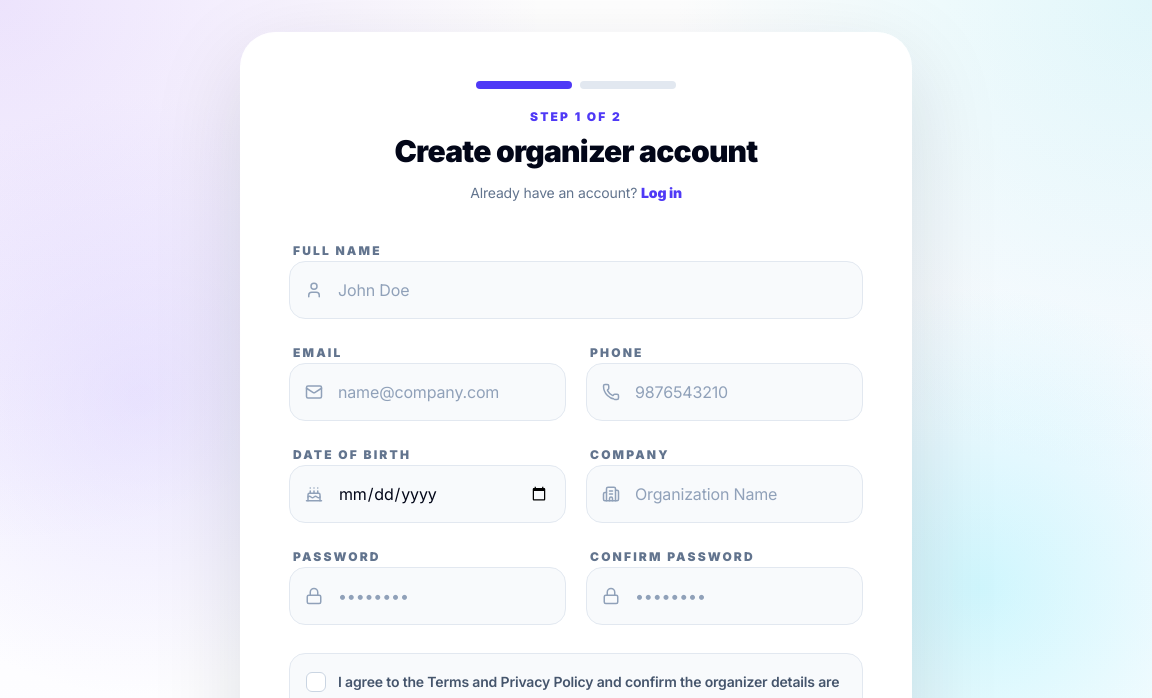
Test case: OrganizerRegistration › validates matching passwords
The image size is (1152, 698).
Type "Password1!" into the password field labelled "Password" at (428, 596), box x1=289 y1=567 x2=566 y2=625
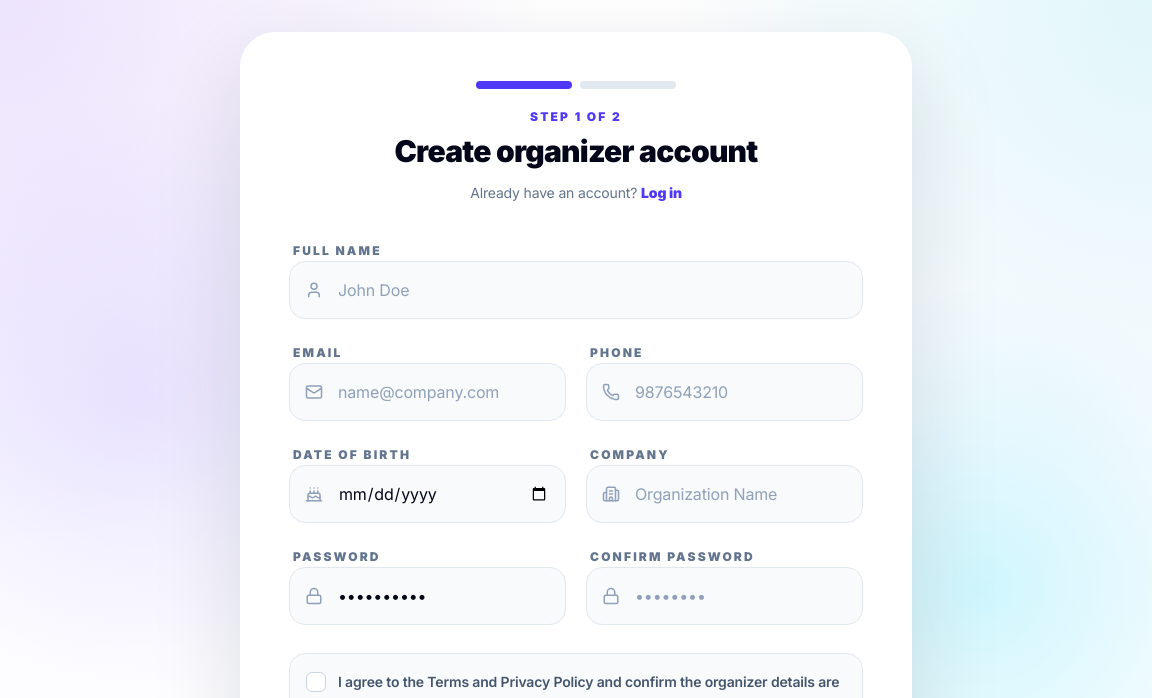
Type "Password2!" into the password field labelled "Confirm Password" at (724, 596), box x1=586 y1=567 x2=863 y2=625
(page scrolled)
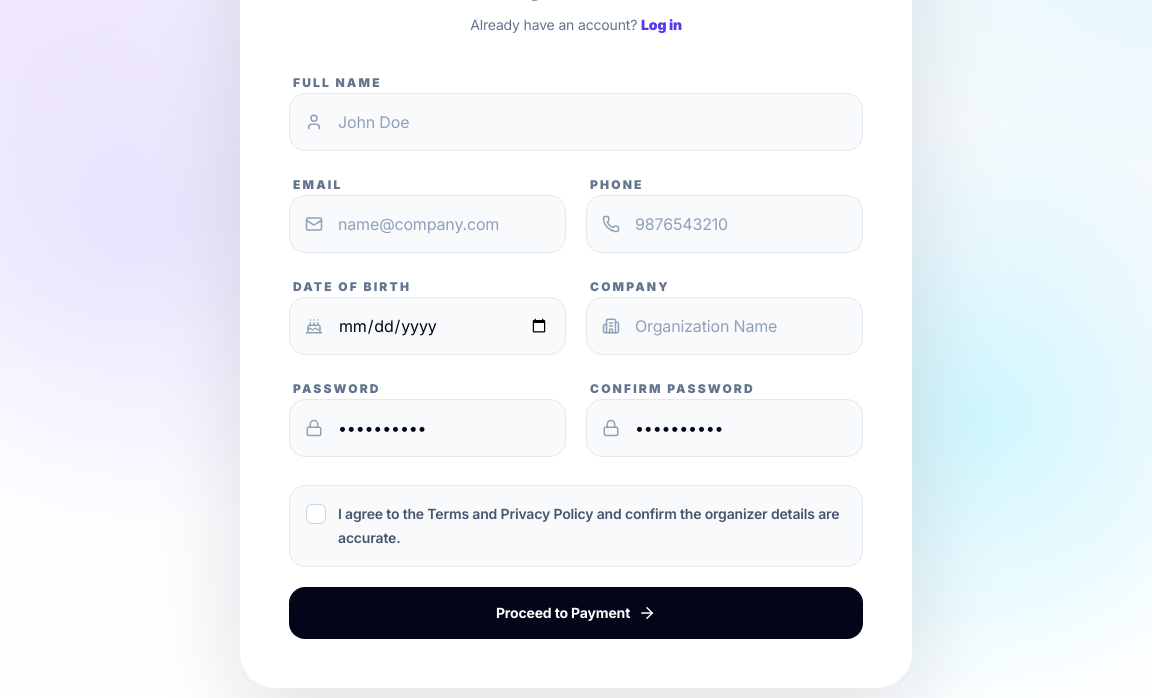
Click the button "Proceed to Payment" at (576, 613), box x1=289 y1=587 x2=863 y2=639
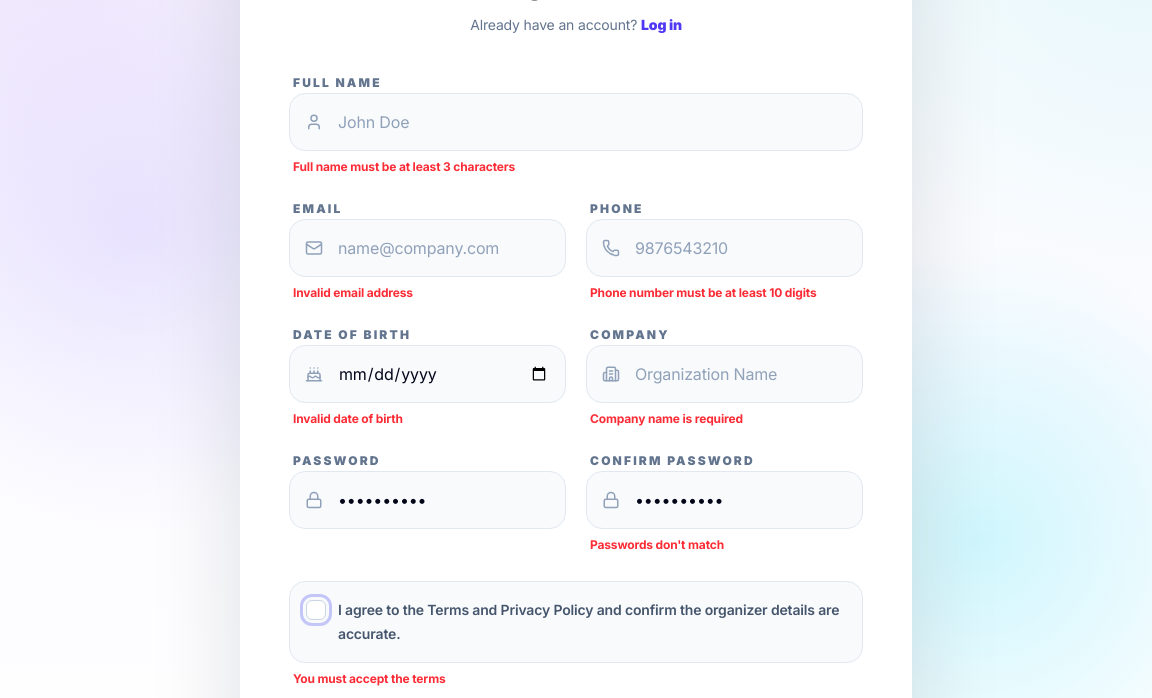
Expected: the text "Passwords don't match" is shown, x1=590 y1=537 x2=724 y2=552
